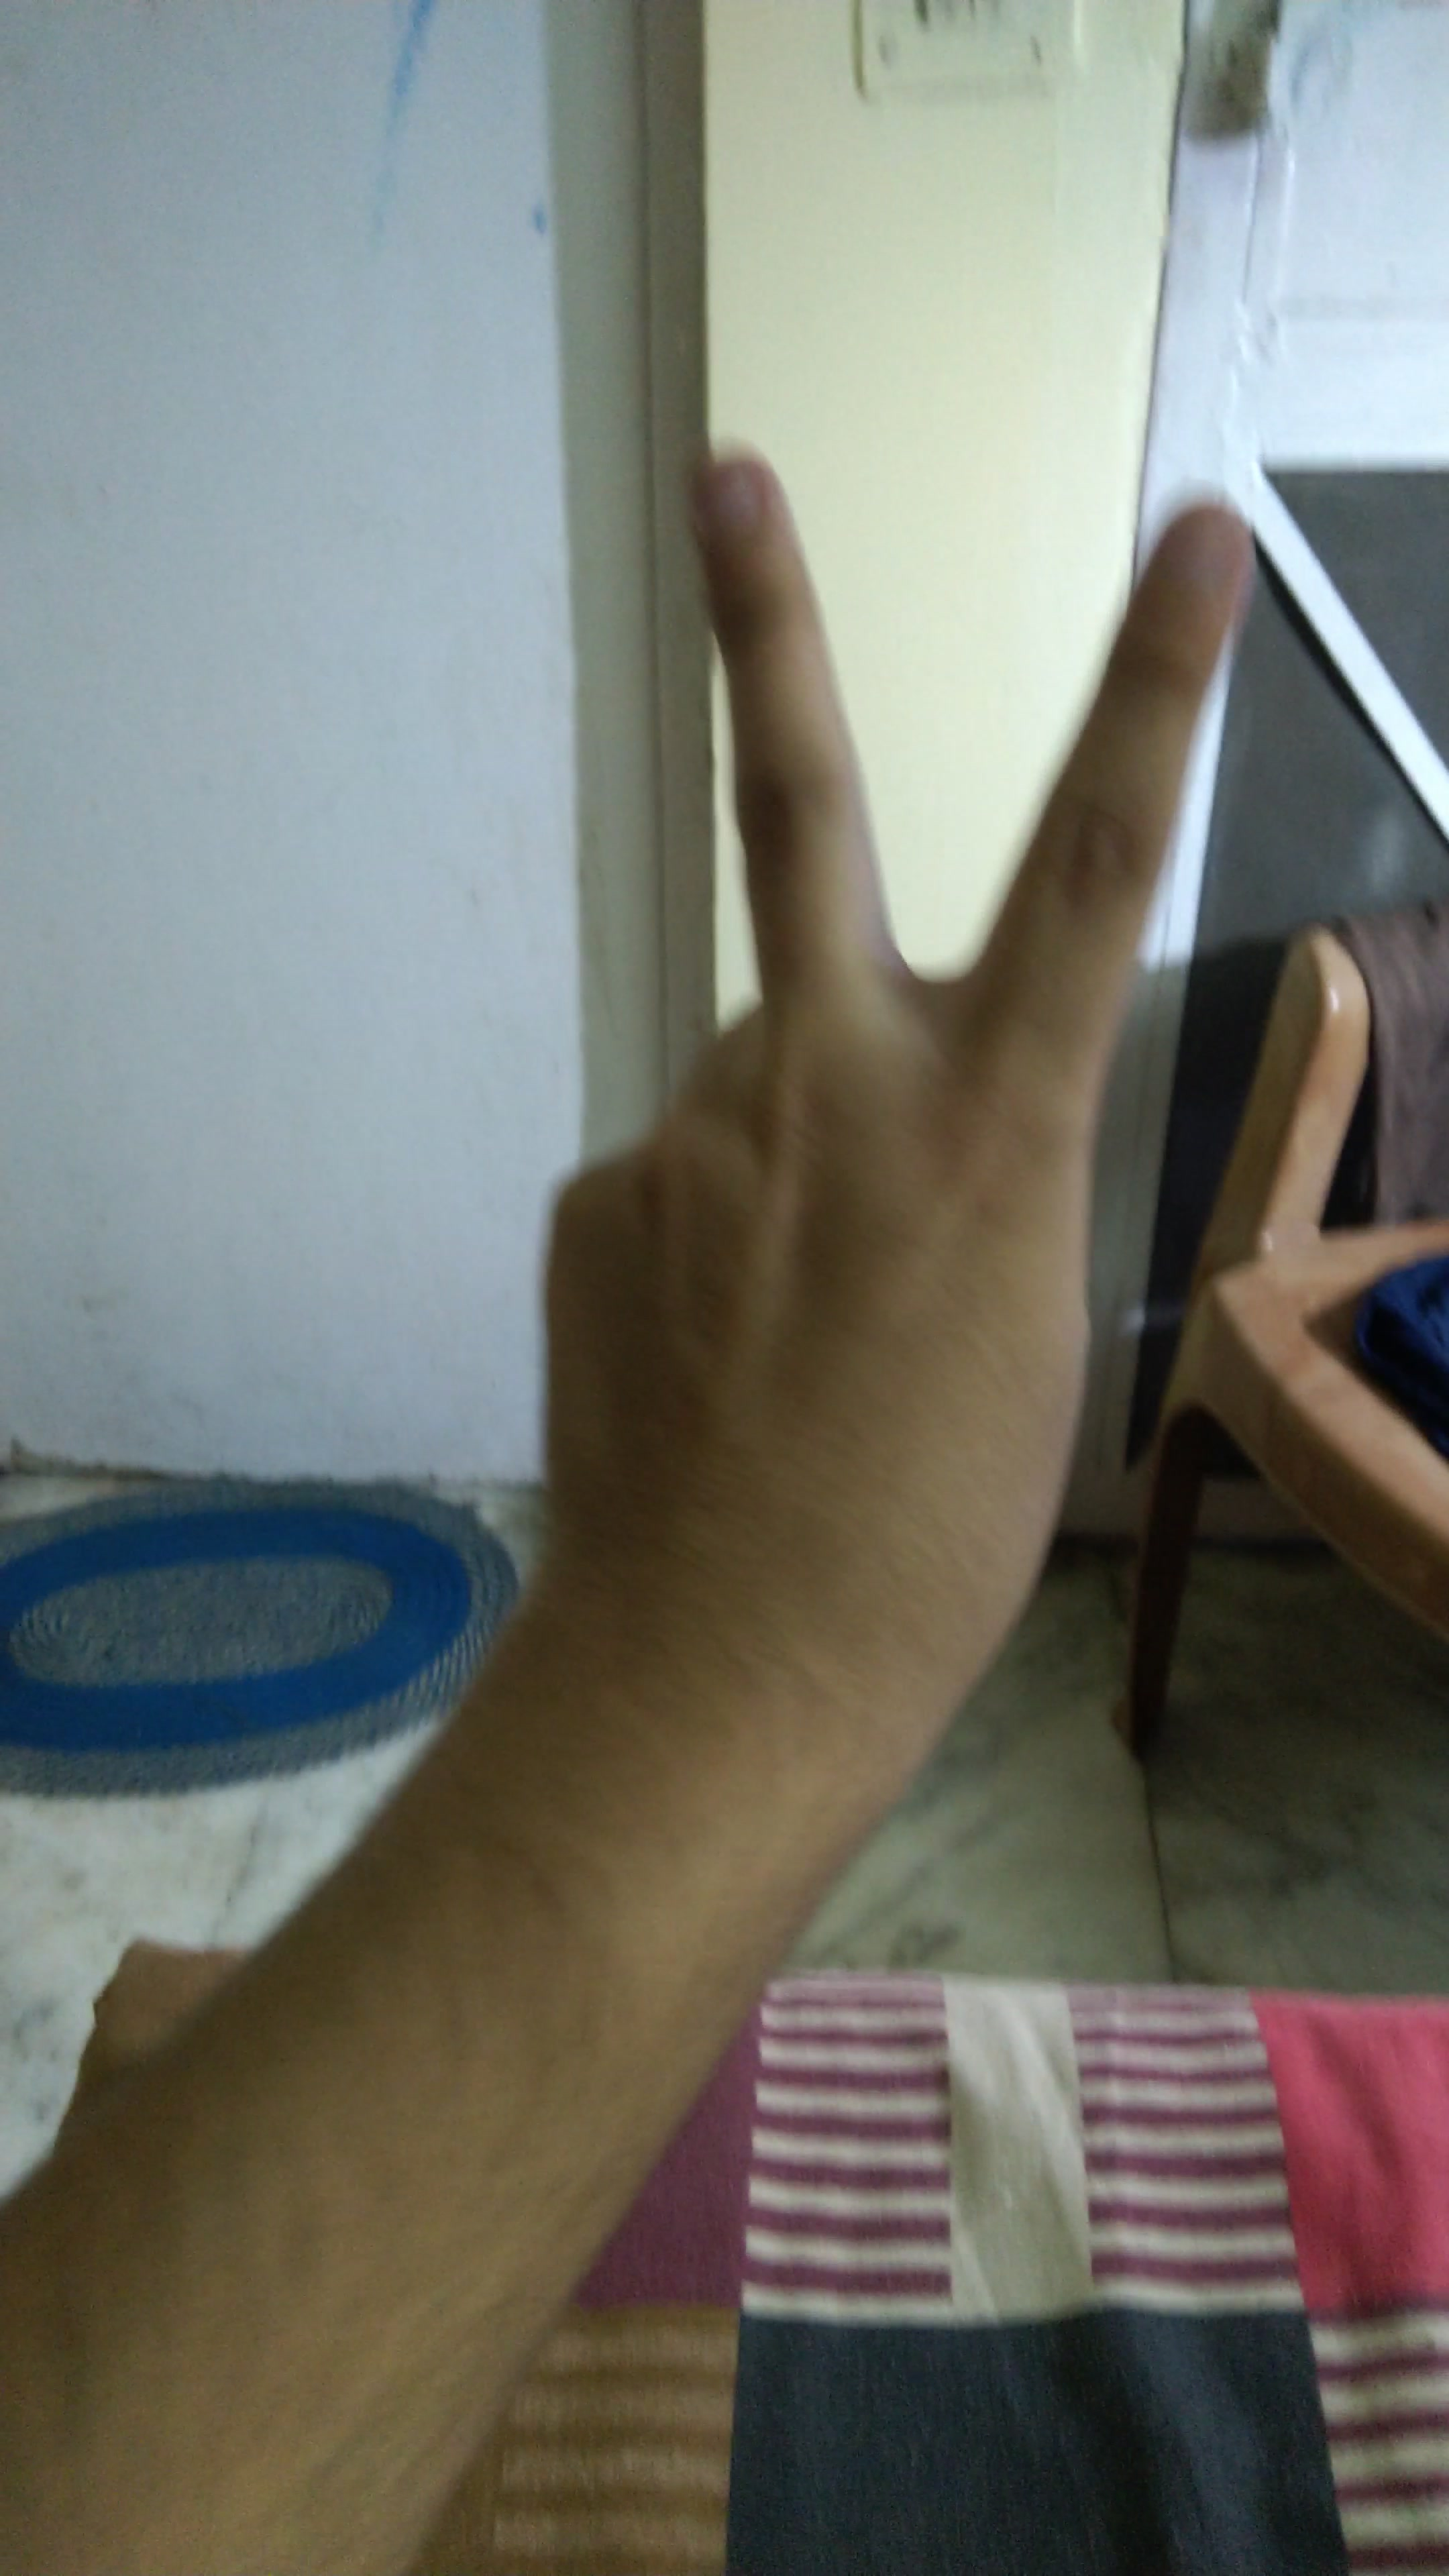hand: (350, 402, 1217, 1858)
